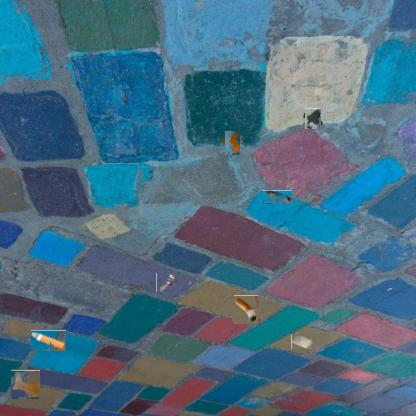dirty: (30, 330, 66, 351), (233, 297, 260, 323), (156, 272, 177, 292), (222, 134, 242, 154), (262, 190, 292, 203), (291, 333, 314, 349)
liquid: (11, 370, 40, 398), (304, 110, 323, 128)
